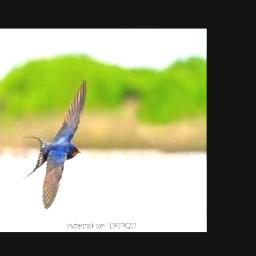Swallow: (16, 77, 86, 209)
